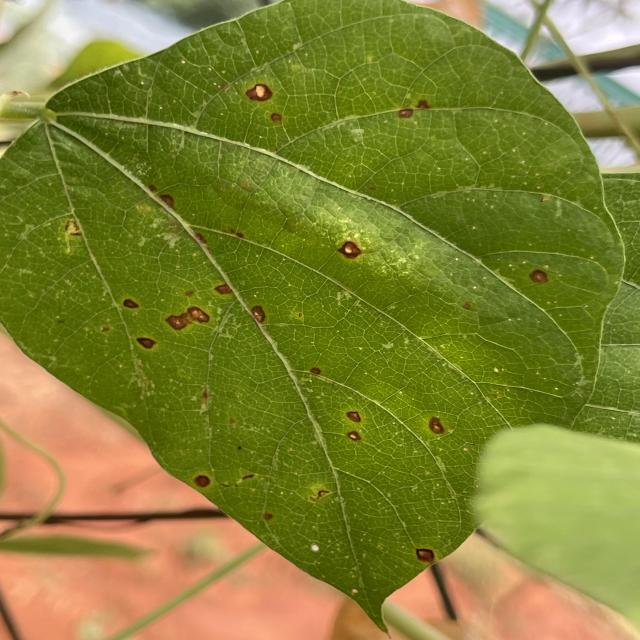Dolicos bean_cercospora leaf spot: (0, 0, 607, 621)
